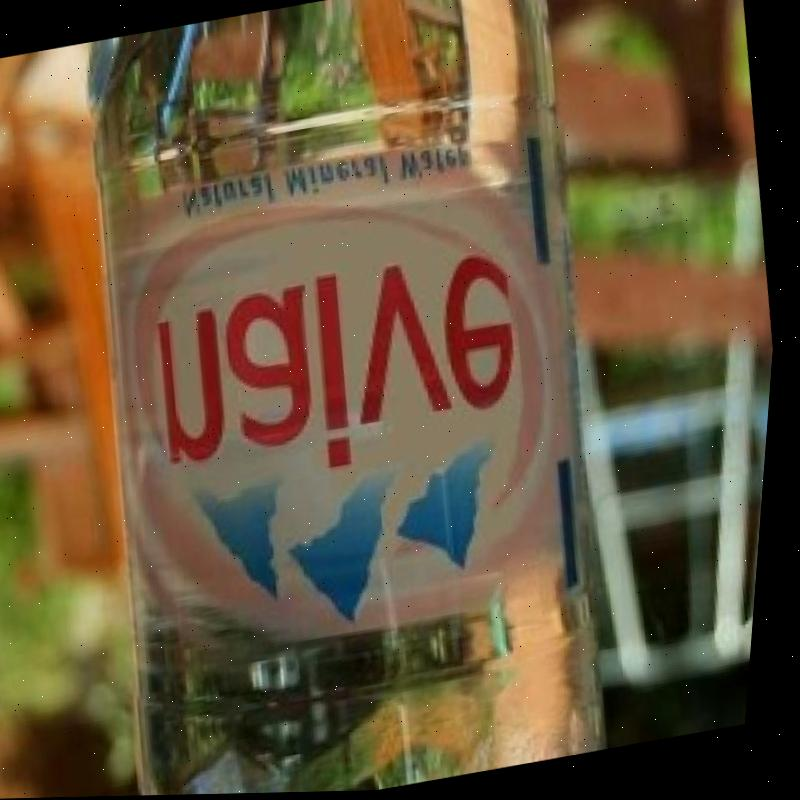botella: (26, 0, 677, 799)
